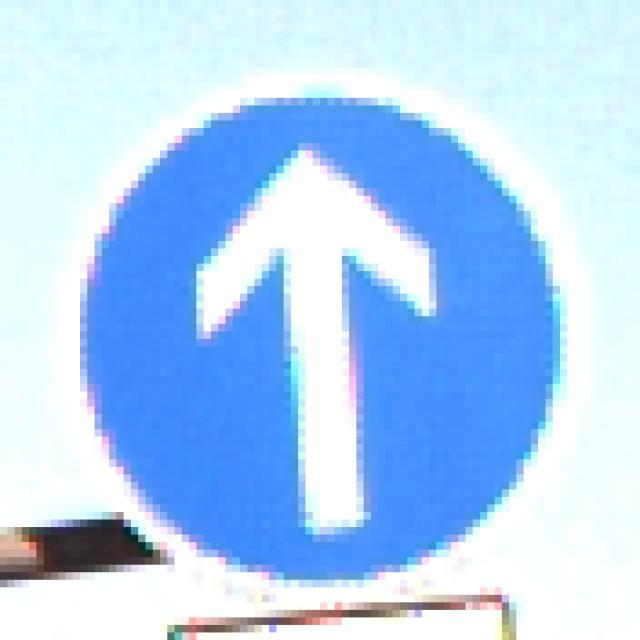compulsary ahead: (68, 79, 567, 581)
